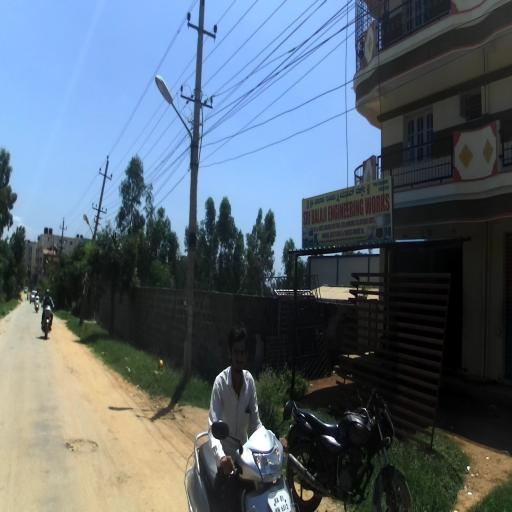street_light_0: (155, 76, 198, 170), (84, 213, 96, 244), (53, 243, 61, 257)
